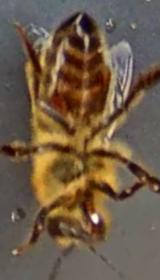varroa_mite: (43, 90, 76, 124)
